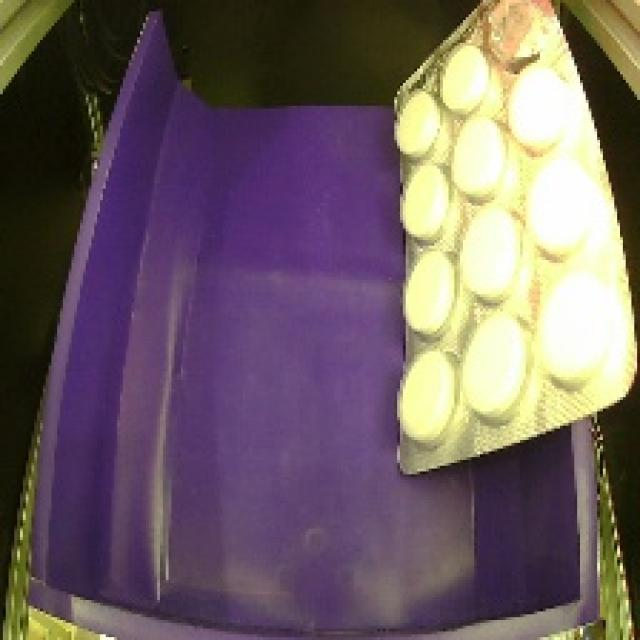med_plate: (376, 0, 640, 489)
